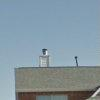Chimney: (34, 39, 54, 72)
